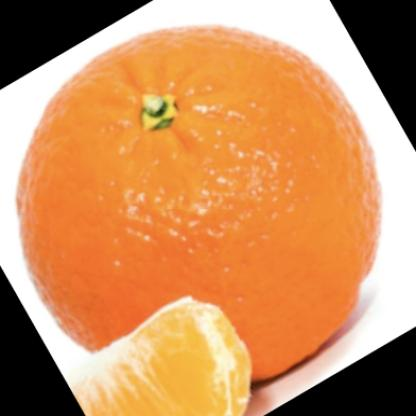fresh: (20, 27, 377, 389)
